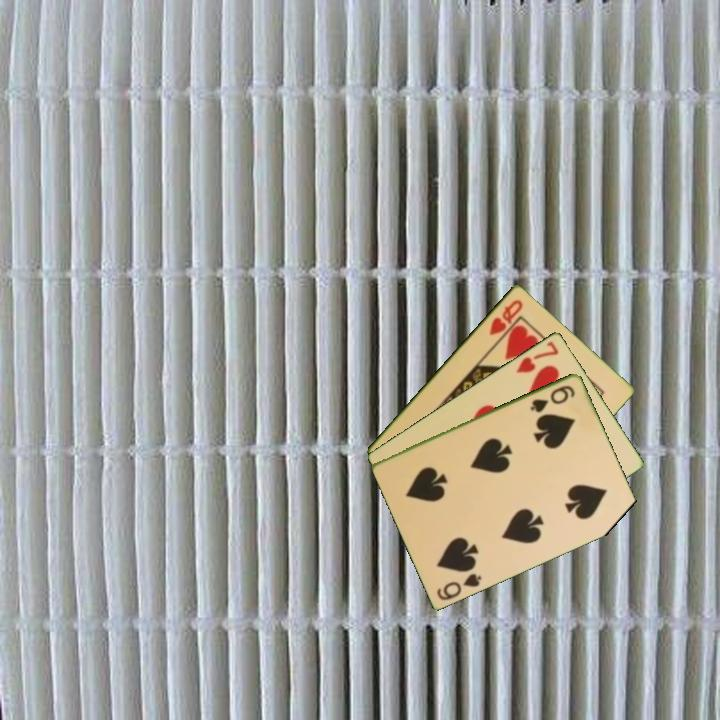6s: (433, 569, 485, 603), (527, 381, 578, 415)
7h: (512, 337, 562, 376)
Qh: (485, 296, 526, 338)
